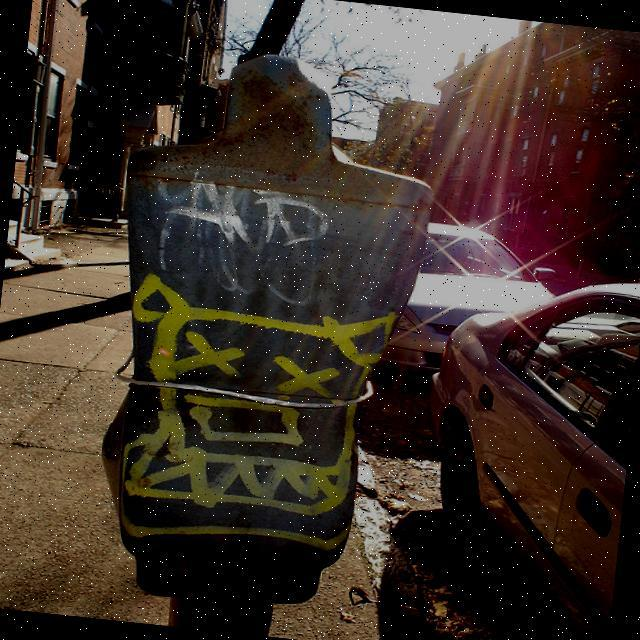fire_hydrant: (76, 39, 446, 640)
